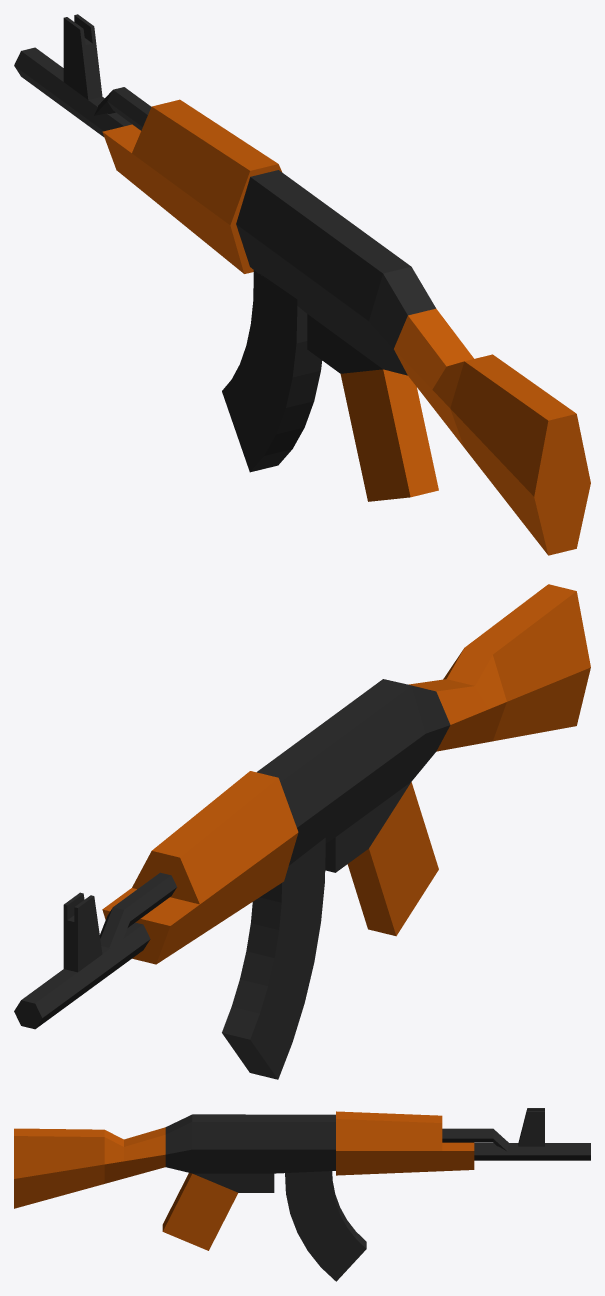
3 views of the same model, one above another, from view 1: azimuth 30°, elevation 25°; view 2: azimuth 150°, elevation 25°; view 3: azimuth 270°, elevation 25° (orthographic). The views are drawn at different scales.
Visible parts, largest first — view 1: AK-47, AK-47(magazine); view 2: AK-47, AK-47(magazine); view 3: AK-47, AK-47(magazine).
Part boxes in pixels (x1=…): AK-47: x1=14, y1=14, x2=590, y2=555; AK-47(magazine): x1=222, y1=270, x2=322, y2=472; AK-47: x1=14, y1=584, x2=590, y2=1029; AK-47(magazine): x1=222, y1=838, x2=325, y2=1079; AK-47: x1=14, y1=1108, x2=590, y2=1250; AK-47(magazine): x1=285, y1=1171, x2=366, y2=1281.
Bounding box in the file's own units: 60 × 262 × 815.
